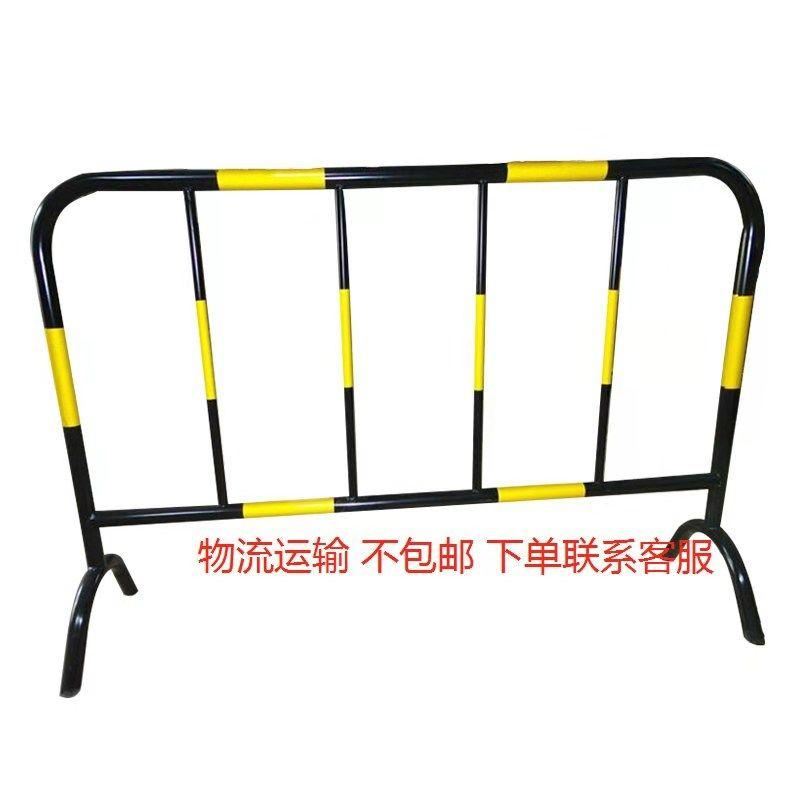sign: (17, 141, 796, 692)
